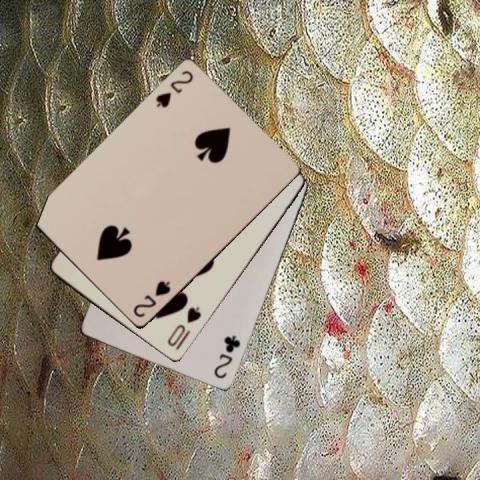10s: (164, 304, 202, 348)
2c: (211, 332, 242, 380)
2s: (130, 278, 172, 319), (152, 68, 194, 109)
